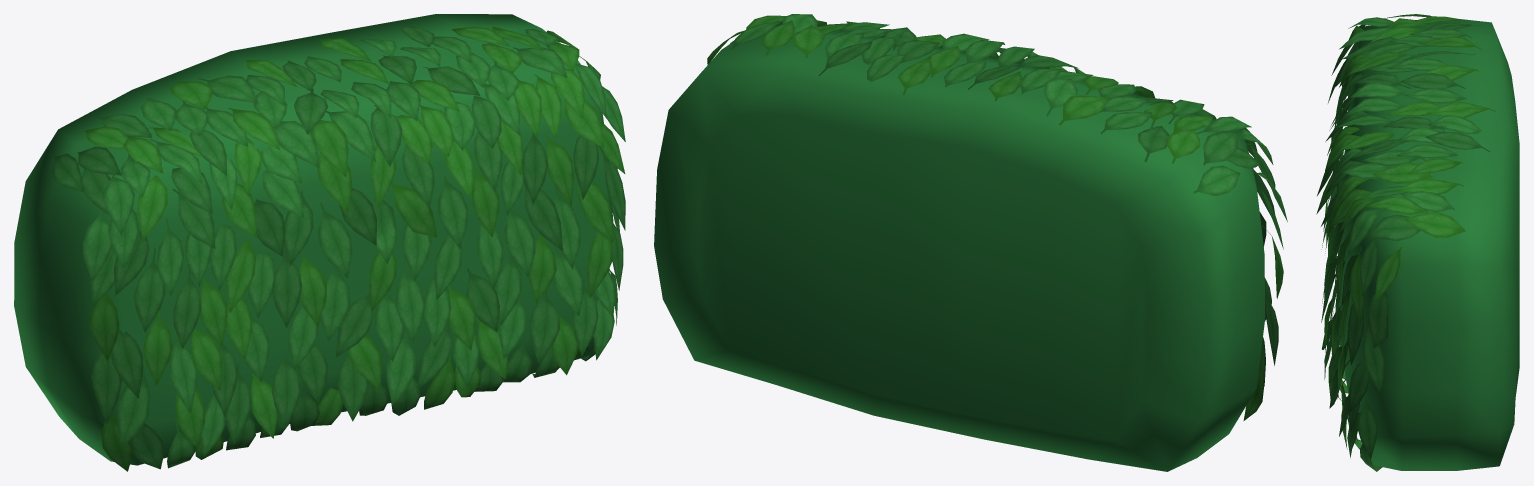
Rendered from Arbusto.fbx.
3 views of the same model, side by side, from view 1: azimuth 30°, elevation 25°; view 2: azimuth 150°, elevation 25°; view 3: azimuth 270°, elevation 25° (orthographic). The views are drawn at different scales.
Visible parts, largest first — view 1: Arbusto; view 2: Arbusto; view 3: Arbusto.
Boxes of the visible parts, x1,y1,x2,y2 form: Arbusto: [14, 14, 625, 471]; Arbusto: [654, 14, 1287, 471]; Arbusto: [1316, 14, 1519, 471].
Size of the model in its own units: 2043 by 1183 by 759.
